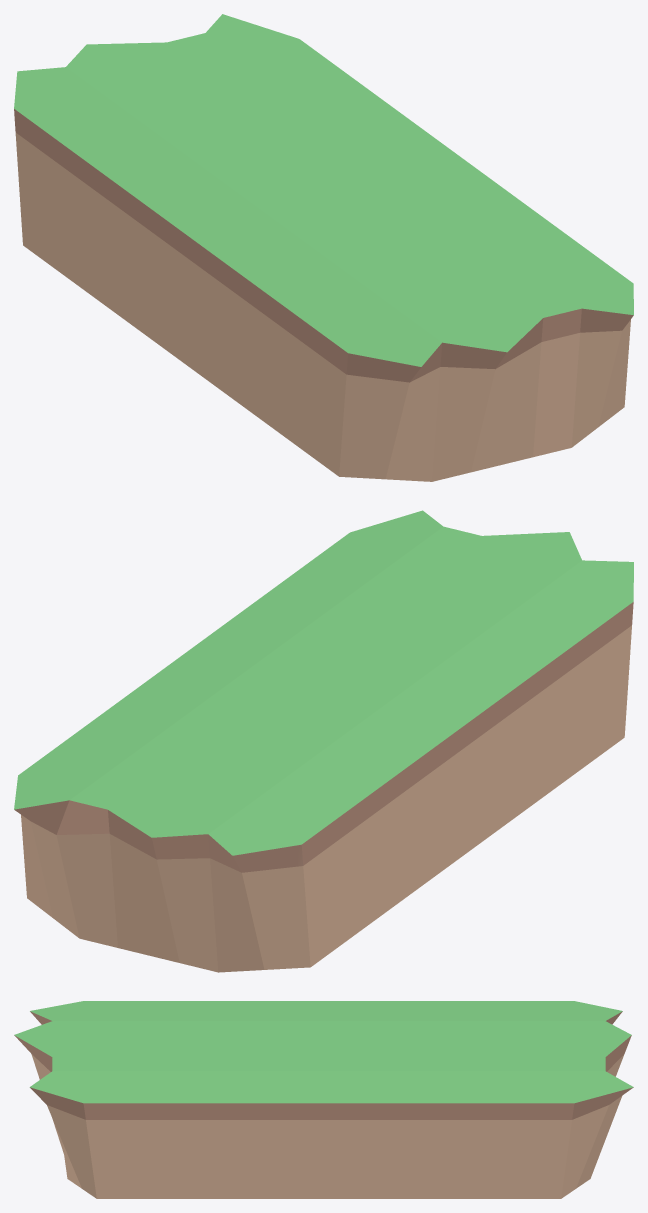
The model's file is Platform 1.glb.
3 views of the same model, one above another, from view 1: azimuth 30°, elevation 25°; view 2: azimuth 150°, elevation 25°; view 3: azimuth 270°, elevation 25° (orthographic). The views are drawn at different scales.
Parts seen in each view (by area): view 1: Cube; view 2: Cube; view 3: Cube.
Boxes of the visible parts, x1,y1,x2,y2 form: Cube: [14, 14, 633, 481]; Cube: [14, 510, 633, 972]; Cube: [14, 1001, 633, 1198].
Size of the model in its own units: 1.78 by 0.8717 by 4.55.
1 material, 1 textured.
